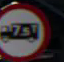Heavy Vehicles: (0, 1, 48, 59)
